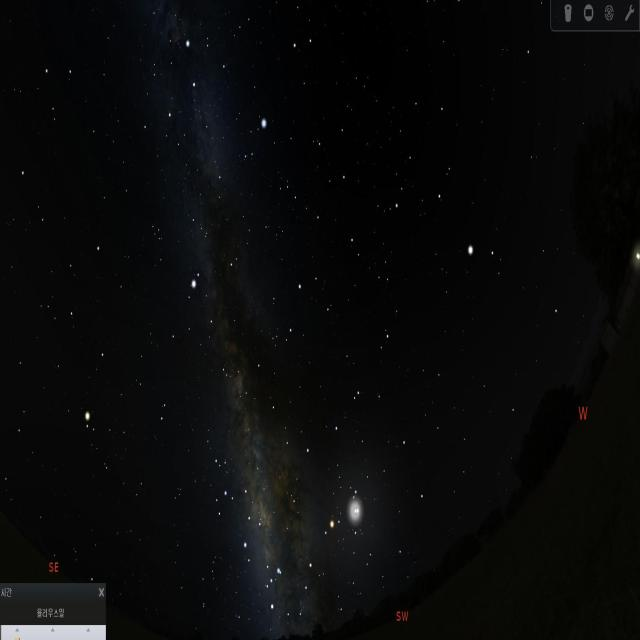aquila: (169, 240, 247, 402)
bootes: (398, 84, 514, 290)
cygnus: (165, 32, 229, 214)
lyra: (236, 115, 276, 167)
moon: (332, 482, 382, 554)
sagittarius: (193, 440, 257, 546)
scorpius: (262, 478, 361, 614)
